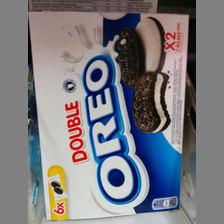chocolate: (29, 12, 191, 222)
